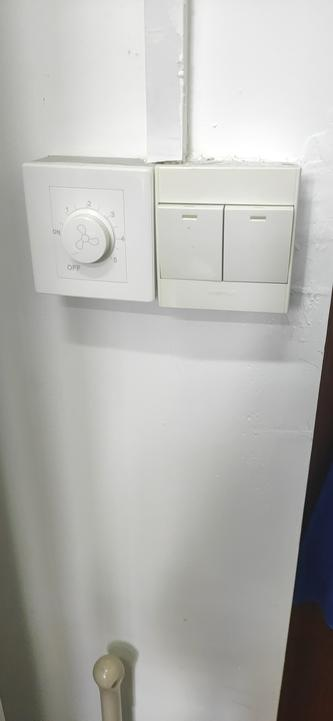switch: (219, 205, 293, 291), (155, 198, 228, 284)
